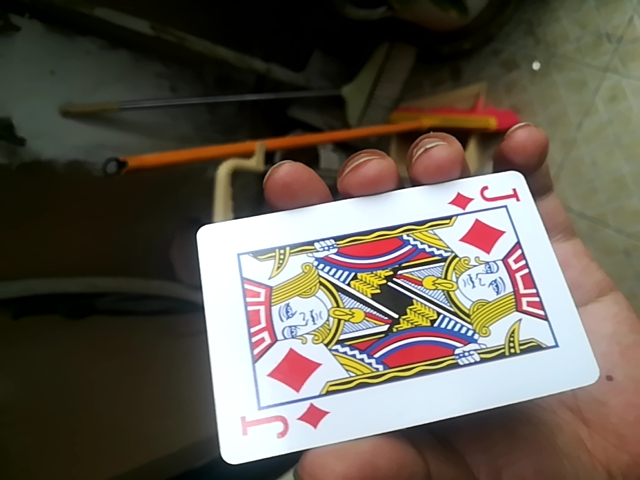fk j: (190, 170, 597, 463)
